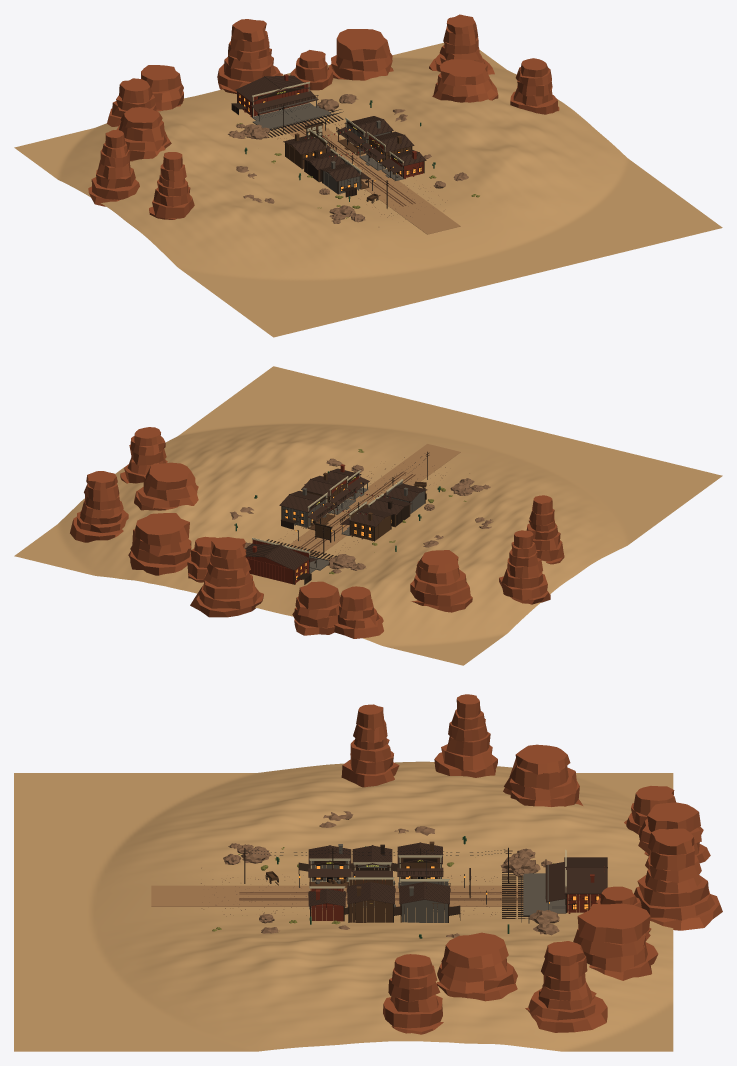
File: town_placeholder.glb
3 renders of one model, top to bottom at view 1: azimuth 30°, elevation 25°; view 2: azimuth 150°, elevation 25°; view 3: azimuth 270°, elevation 25°, orthographic. The views are drawn at different scales.
Parts seen in each view (by area): view 1: ground, street, mesa.005, mesa.007, mesa.001, mesa.009, mesa, mesa.002, mesa.010, mesa.008, mesa.004, mesa.003 (+6 smaller); view 2: ground, mesa.005, mesa.007, street, mesa.002, mesa.008, mesa.001, mesa.009, mesa.004, mesa.003, mesa, mesa.010 (+7 smaller); view 3: ground, mesa.005, street, mesa.008, mesa.007, mesa.009, mesa.010, mesa.002, mesa.001, mesa, mesa.004, Station_roof (+14 smaller).
Boxes of the visible parts, bbox=[...] form: ground: bbox=[14, 42, 722, 337]; street: bbox=[281, 118, 460, 234]; mesa.005: bbox=[217, 19, 282, 93]; mesa.007: bbox=[328, 29, 393, 80]; mesa.001: bbox=[88, 130, 139, 206]; mesa.009: bbox=[432, 59, 498, 102]; mesa: bbox=[149, 152, 194, 219]; mesa.002: bbox=[116, 107, 171, 161]; mesa.010: bbox=[510, 58, 559, 114]; mesa.008: bbox=[429, 14, 494, 74]; mesa.004: bbox=[141, 65, 183, 110]; mesa.003: bbox=[107, 78, 162, 126]; ground: bbox=[14, 366, 722, 665]; mesa.005: bbox=[190, 537, 263, 617]; mesa.007: bbox=[128, 513, 191, 575]; street: bbox=[288, 444, 460, 557]; mesa.002: bbox=[410, 550, 472, 612]; mesa.008: bbox=[70, 471, 128, 542]; mesa.001: bbox=[499, 530, 550, 604]; mesa.009: bbox=[134, 462, 198, 510]; mesa.004: bbox=[292, 581, 340, 635]; mesa.003: bbox=[334, 586, 383, 638]; mesa: bbox=[526, 495, 564, 564]; mesa.010: bbox=[120, 427, 167, 483]; ground: bbox=[14, 761, 673, 1051]; mesa.005: bbox=[634, 828, 722, 930]; street: bbox=[151, 885, 523, 906]; mesa.008: bbox=[525, 941, 607, 1032]; mesa.007: bbox=[573, 903, 658, 980]; mesa.009: bbox=[436, 932, 517, 1001]; mesa.010: bbox=[383, 954, 443, 1034]; mesa.002: bbox=[503, 744, 582, 806]; mesa.001: bbox=[434, 694, 497, 777]; mesa: bbox=[341, 704, 399, 787]; mesa.004: bbox=[638, 802, 710, 863]; Station_roof: bbox=[564, 857, 607, 894].
Size of what is drawn, in the model's own units: 121 by 17.7 by 129.
